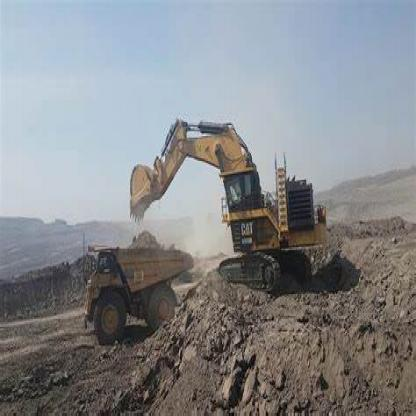dump_truck: (82, 228, 198, 368)
excavator: (126, 102, 332, 302)
